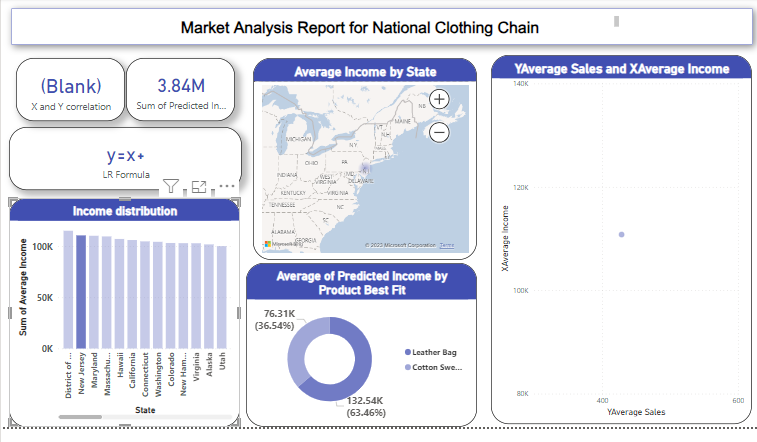

Layout of this report page (visuals, bound fields, positions):
{"tool":"powerbi","page":{"name":"Visuals","canvas":[1280,720],"ordinal":0},"visuals":[{"type":"shape","box":[0,0,1280,720.6],"z":0},{"type":"shape","box":[0,0,1280,95.7],"z":1000},{"type":"scatterChart","fields":{"X":["Regression Table.YAverage Sales"],"Y":["Regression Table.XAverage Income"]},"box":[823.1,95.7,438.4,619.8],"z":2000},{"type":"card","fields":{"Values":["Regression Table.LR Formula"]},"box":[13.4,216.7,391.4,105.8],"z":3000},{"type":"map","title":"Average Income by State","fields":{"Category":["Avg Income by State.State"],"Size":["Sum(Regression Table.XAverage Income)"]},"box":[423.3,100.8,376.3,339.3],"z":4000},{"type":"card","fields":{"Values":["Regression Table.R Average of X and Y correlation for State"]},"box":[25.2,100.8,183.1,105.8],"z":5000},{"type":"card","fields":{"Values":["Sum(Customer List.Predicted Income)"]},"box":[210,100.8,183.1,105.8],"z":6000},{"type":"donutChart","fields":{"Category":["Customer List.Product Best Fit"],"Y":["Avg(Customer List.Predicted Income)"]},"box":[411.5,445.1,388,275.5],"z":7000},{"type":"columnChart","title":"Income distribution","fields":{"Y":["Sum(Avg Income by State.Average Income)"],"Category":["Avg Income by State.State"]},"box":[13.4,336,388,384.7],"z":8000},{"type":"textbox","box":[178.1,25.2,865.1,45.4],"z":9000}]}

Visuals, with their boxes on the page's 1280x720 design canvas (x1, y1, x2, y2). These are canvas units, not pixel positions in the 757x442 screenshot, which may show the page scaled, cropped or inside an application window:
shape: x1=0, y1=0, x2=1280, y2=721
shape: x1=0, y1=0, x2=1280, y2=96
scatterChart - Regression Table.YAverage Sales x Regression Table.XAverage Income: x1=823, y1=96, x2=1262, y2=716
card - Regression Table.LR Formula: x1=13, y1=217, x2=405, y2=322
"Average Income by State" map: x1=423, y1=101, x2=800, y2=440
card - Regression Table.R Average of X and Y correlation for State: x1=25, y1=101, x2=208, y2=207
card - Sum(Customer List.Predicted Income): x1=210, y1=101, x2=393, y2=207
donutChart - Customer List.Product Best Fit x Avg(Customer List.Predicted Income): x1=412, y1=445, x2=800, y2=721
"Income distribution" columnChart: x1=13, y1=336, x2=401, y2=721
textbox: x1=178, y1=25, x2=1043, y2=71
